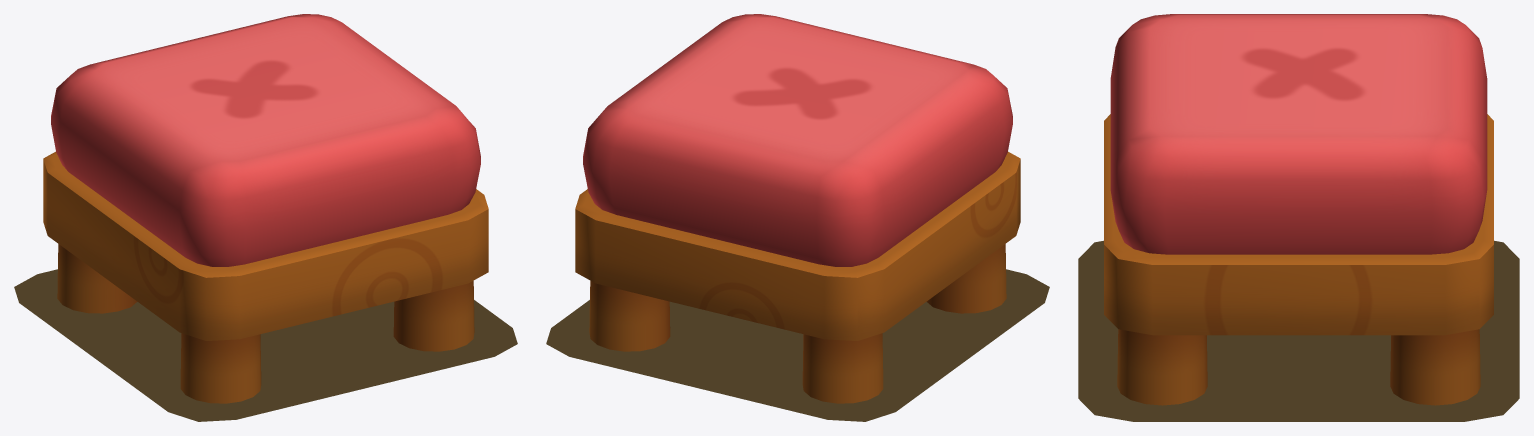
Rendered from Mu_TinyChair.fbx.
3 views of the same model, side by side, from view 1: azimuth 30°, elevation 25°; view 2: azimuth 150°, elevation 25°; view 3: azimuth 270°, elevation 25° (orthographic). The views are drawn at different scales.
Visible parts, largest first — view 1: Mu_TinyChair, Mu_TinyChair_shadow; view 2: Mu_TinyChair, Mu_TinyChair_shadow; view 3: Mu_TinyChair, Mu_TinyChair_shadow.
Part boxes in pixels (box(x1,y1,x2,y2)): Mu_TinyChair: box(43, 14, 488, 403); Mu_TinyChair_shadow: box(14, 269, 517, 421); Mu_TinyChair: box(575, 14, 1020, 403); Mu_TinyChair_shadow: box(546, 269, 1049, 421); Mu_TinyChair: box(1104, 14, 1493, 405); Mu_TinyChair_shadow: box(1078, 240, 1519, 421).
Bounding box in the file's own units: 97.97 × 61.4 × 97.97.
Materials: 2 (1 with a texture image).
